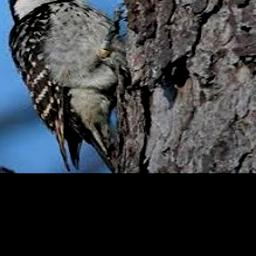Woodpecker: (7, 0, 158, 173)
